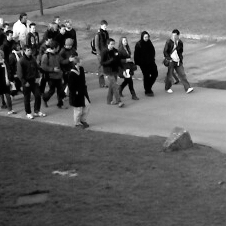person: (17, 45, 46, 119), (163, 28, 194, 94), (42, 41, 68, 109), (100, 38, 124, 107), (134, 30, 159, 96), (68, 56, 90, 130), (118, 35, 140, 99), (91, 19, 109, 87), (1, 50, 17, 115), (8, 43, 22, 93), (11, 12, 31, 45), (59, 37, 78, 71), (37, 36, 54, 66), (63, 18, 77, 51), (25, 22, 41, 47), (1, 30, 16, 51), (43, 21, 58, 42), (1, 22, 11, 48), (55, 24, 67, 43), (51, 16, 61, 29)
